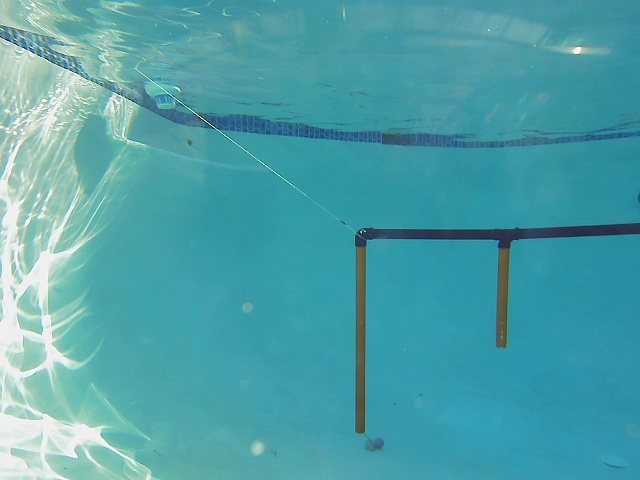Gate: (350, 236, 369, 436), (493, 234, 515, 354)
